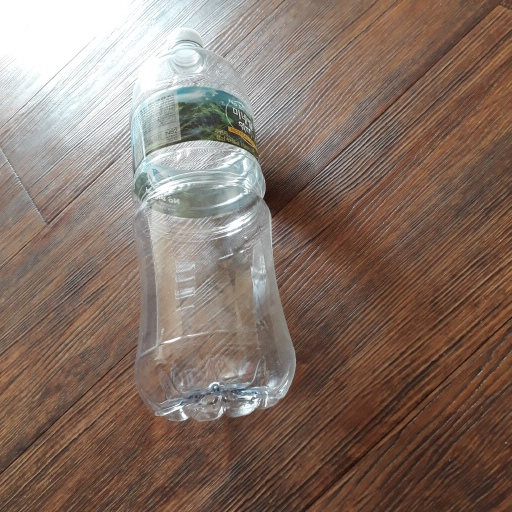Plastic_0: (128, 24, 297, 422)
